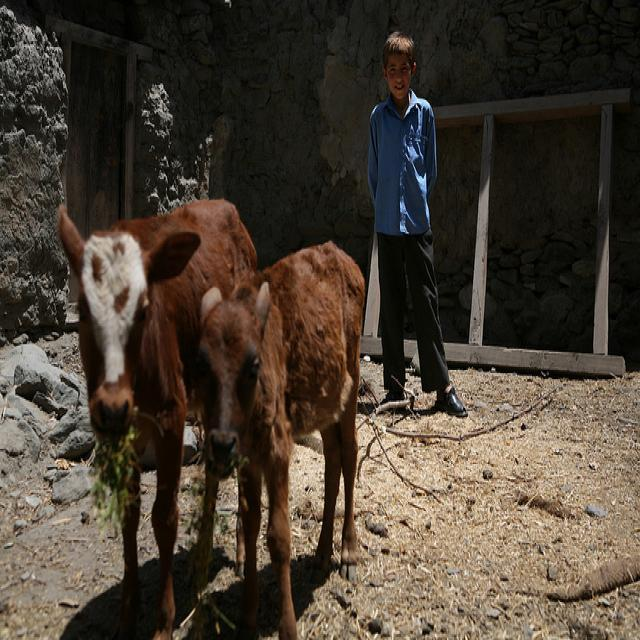cow: (57, 199, 260, 628), (195, 233, 364, 625)
